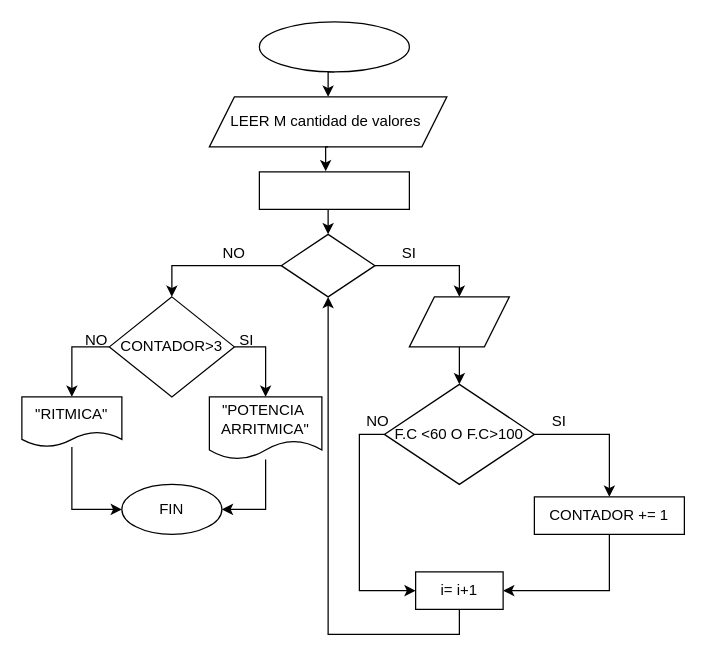
Some shapes in this 706 by 666 pixel diagram are drawn without their labels. The shapes that lost their labels are listed below. From the top down, each one's box as (x1, y1, x2, y2) in pixels, then its label:
(258, 21, 409, 72): INICIO
(258, 171, 409, 209): i=1, contador =0
(280, 233, 375, 297): i <= M
(408, 296, 509, 347): F.C
